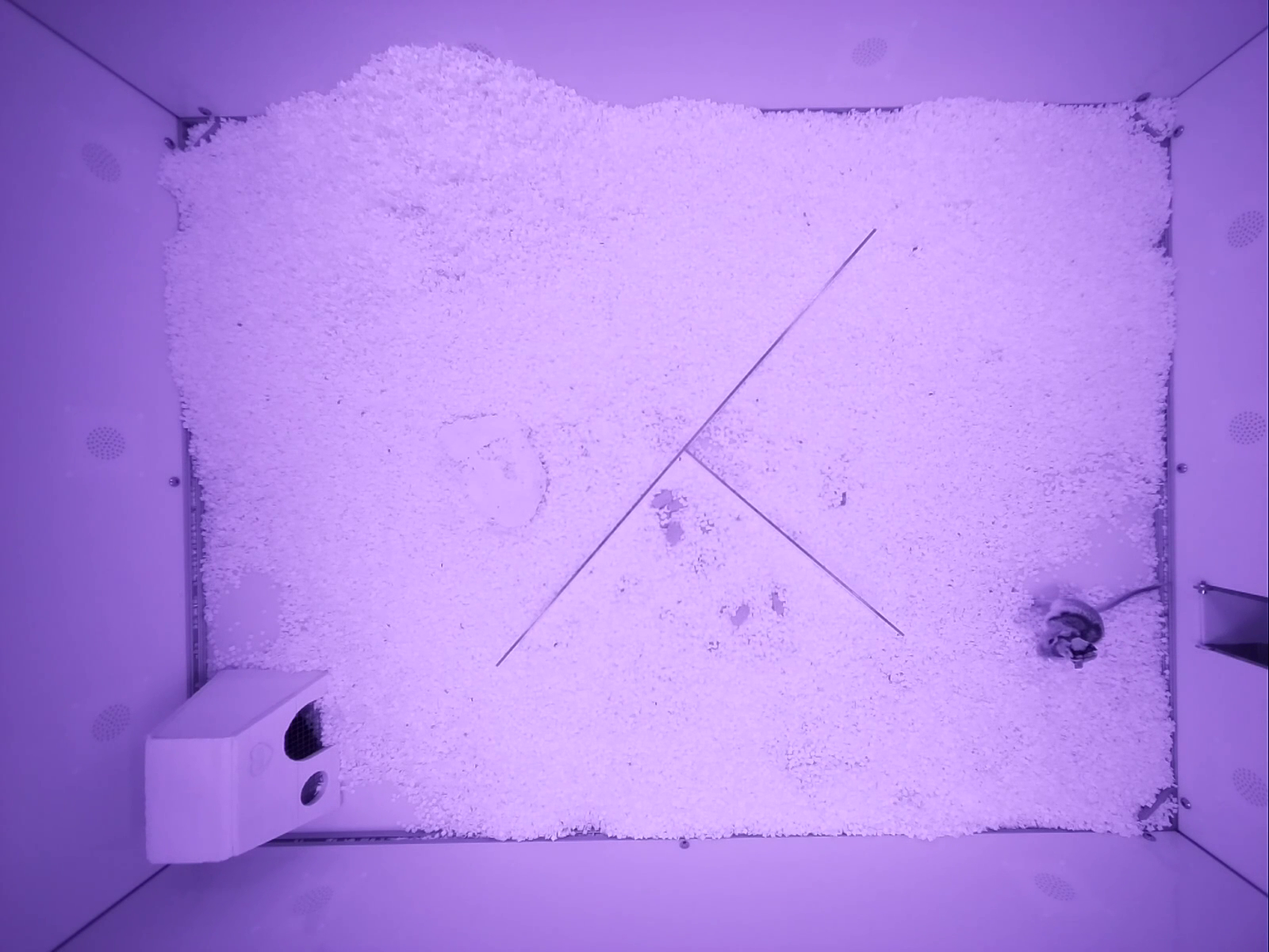adult_back: (1043, 585, 1157, 666)
